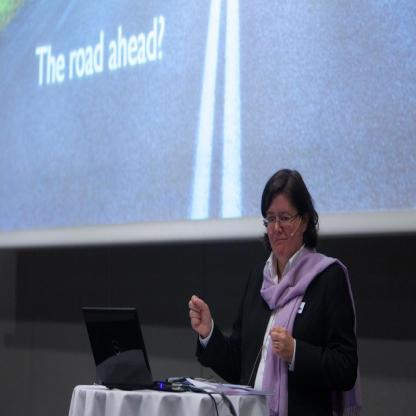board: (82, 306, 190, 391)
